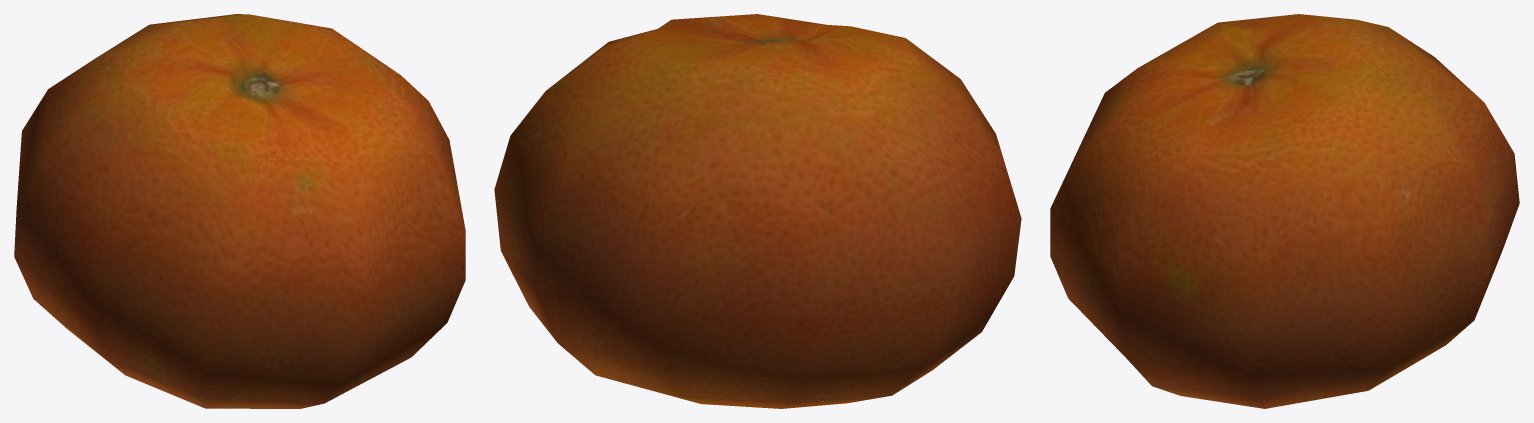
The model's file is A64_Orange_low.fbx.
3 renders of one model, left to right at view 1: azimuth 30°, elevation 25°; view 2: azimuth 150°, elevation 25°; view 3: azimuth 270°, elevation 25°, orthographic. The views are drawn at different scales.
Visible parts, largest first — view 1: A64_Orange_low; view 2: A64_Orange_low; view 3: A64_Orange_low.
Boxes of the visible parts, x1=… form: A64_Orange_low: x1=14, y1=14, x2=465, y2=408; A64_Orange_low: x1=494, y1=14, x2=1021, y2=408; A64_Orange_low: x1=1050, y1=14, x2=1519, y2=408.
Size of the model in its own units: 8.26 by 8.42 by 6.28.
1 material, 1 textured.
